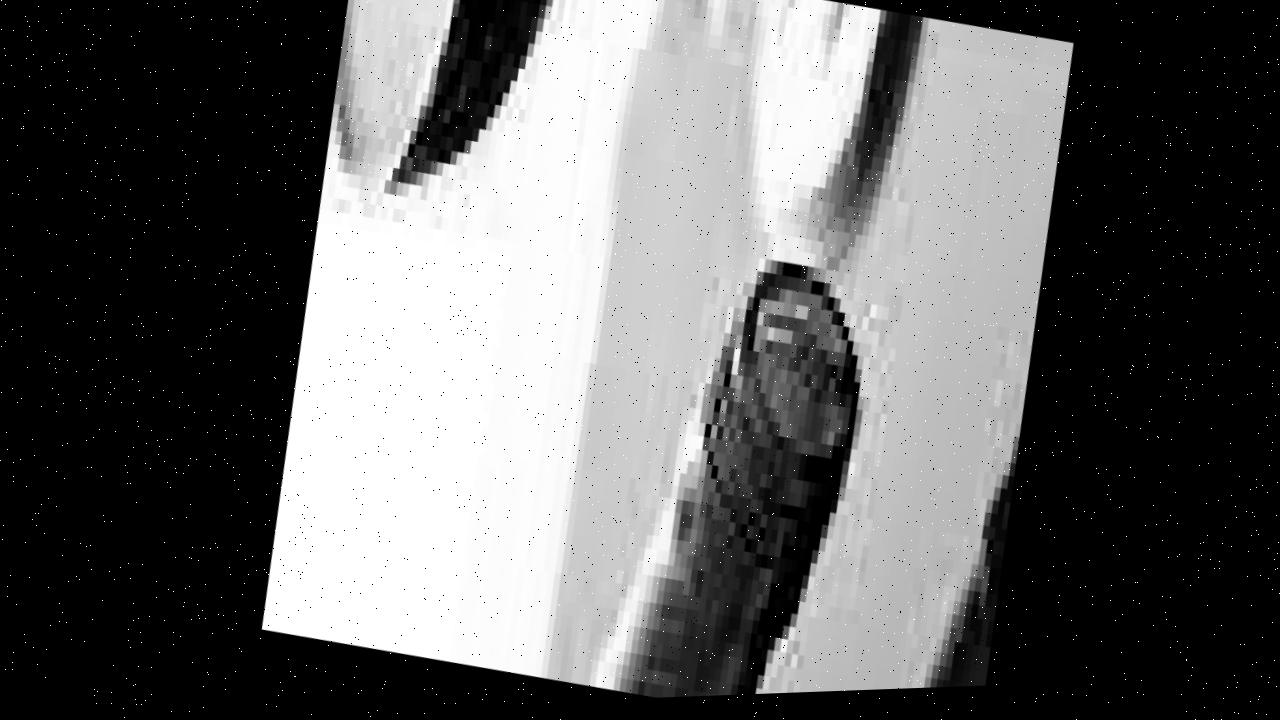drinks Stains: (747, 15, 1109, 698)
